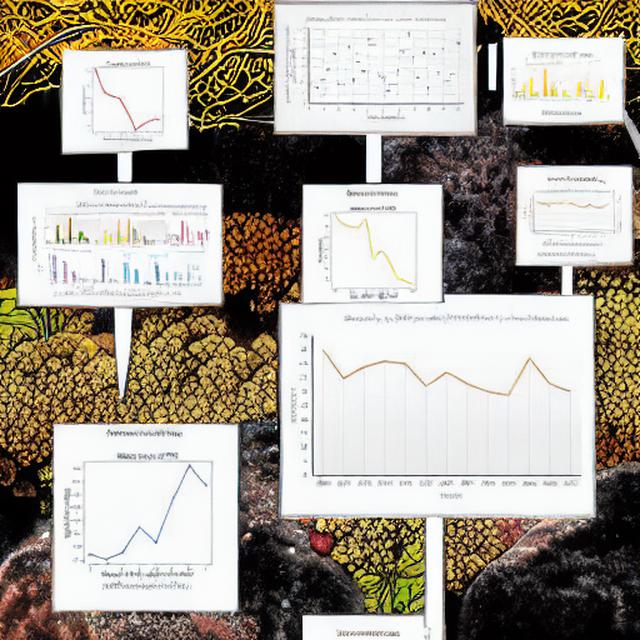Graph: (284, 309, 587, 506), (56, 445, 235, 579), (279, 12, 471, 123), (306, 200, 438, 299), (70, 57, 183, 142), (522, 188, 612, 241), (506, 60, 584, 109), (39, 248, 110, 290)
